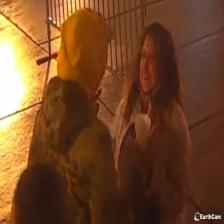person: (26, 8, 128, 223), (110, 23, 191, 224)
